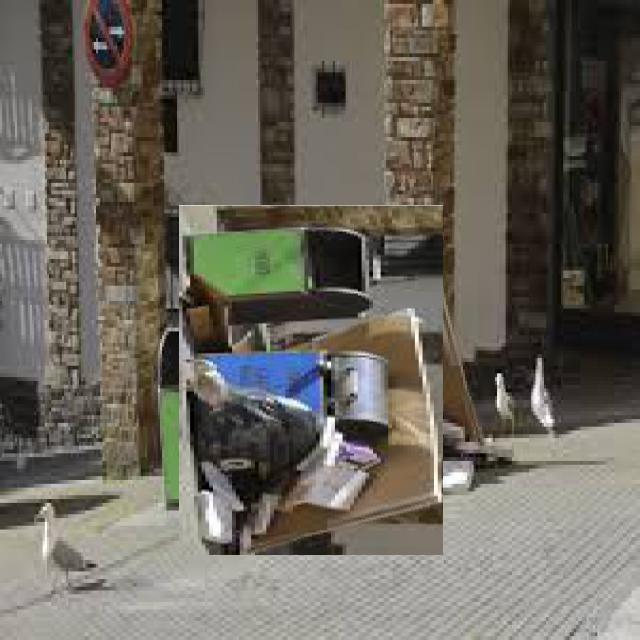Trashbag: (194, 386, 325, 484)
